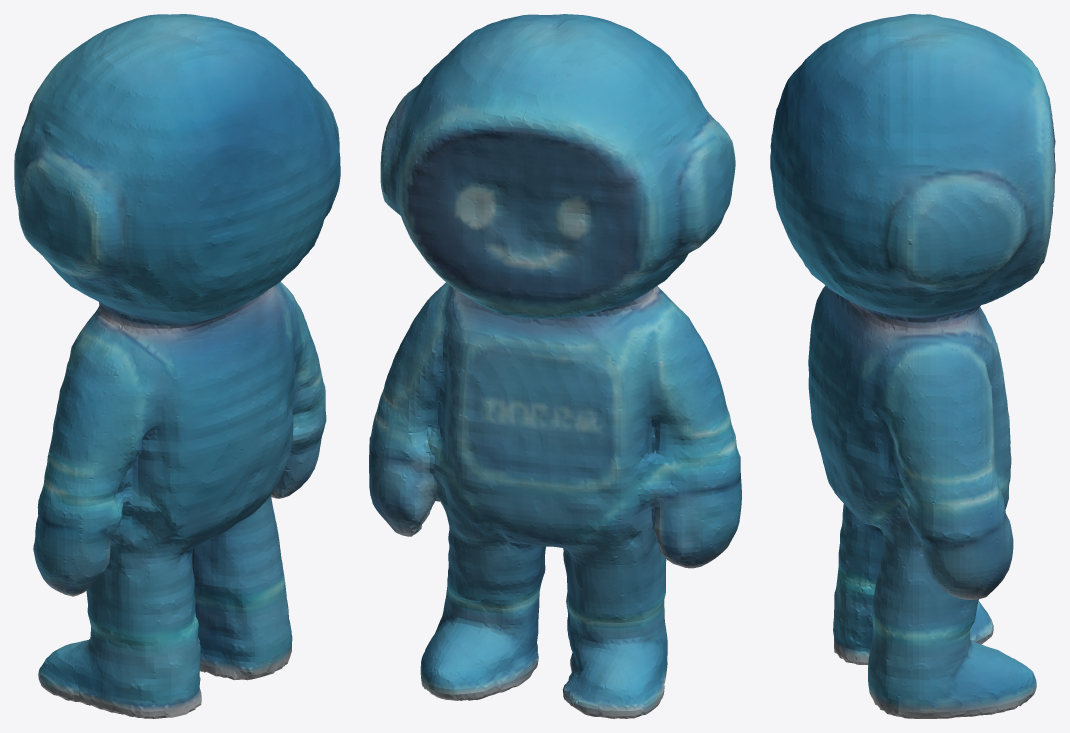
The model's file is avatar.glb.
3 renders of one model, left to right at view 1: azimuth 30°, elevation 25°; view 2: azimuth 150°, elevation 25°; view 3: azimuth 270°, elevation 25°, orthographic.
Parts seen in each view (by area): view 1: world; view 2: world; view 3: world.
Boxes of the visible parts, x1,y1,x2,y2 form: world: [14, 14, 340, 718]; world: [369, 14, 741, 718]; world: [770, 14, 1055, 718].
Size of the model in its own units: 1.03 by 1.98 by 0.8046.
